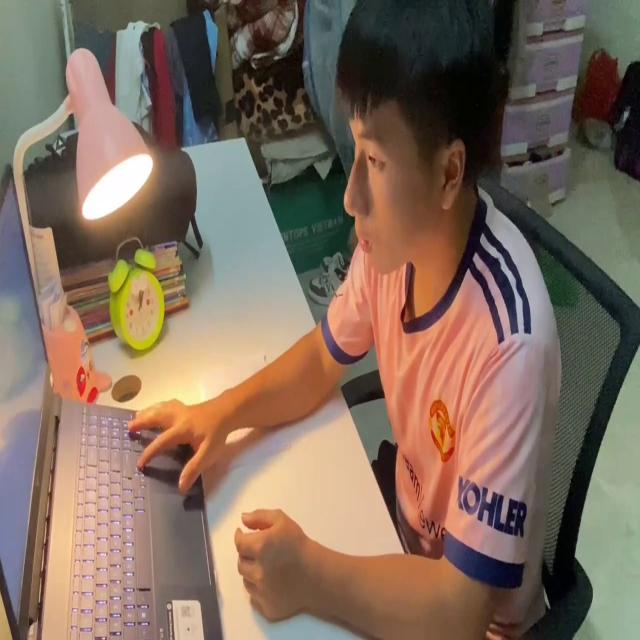laptop: (0, 157, 225, 640)
student: (126, 0, 562, 640)
